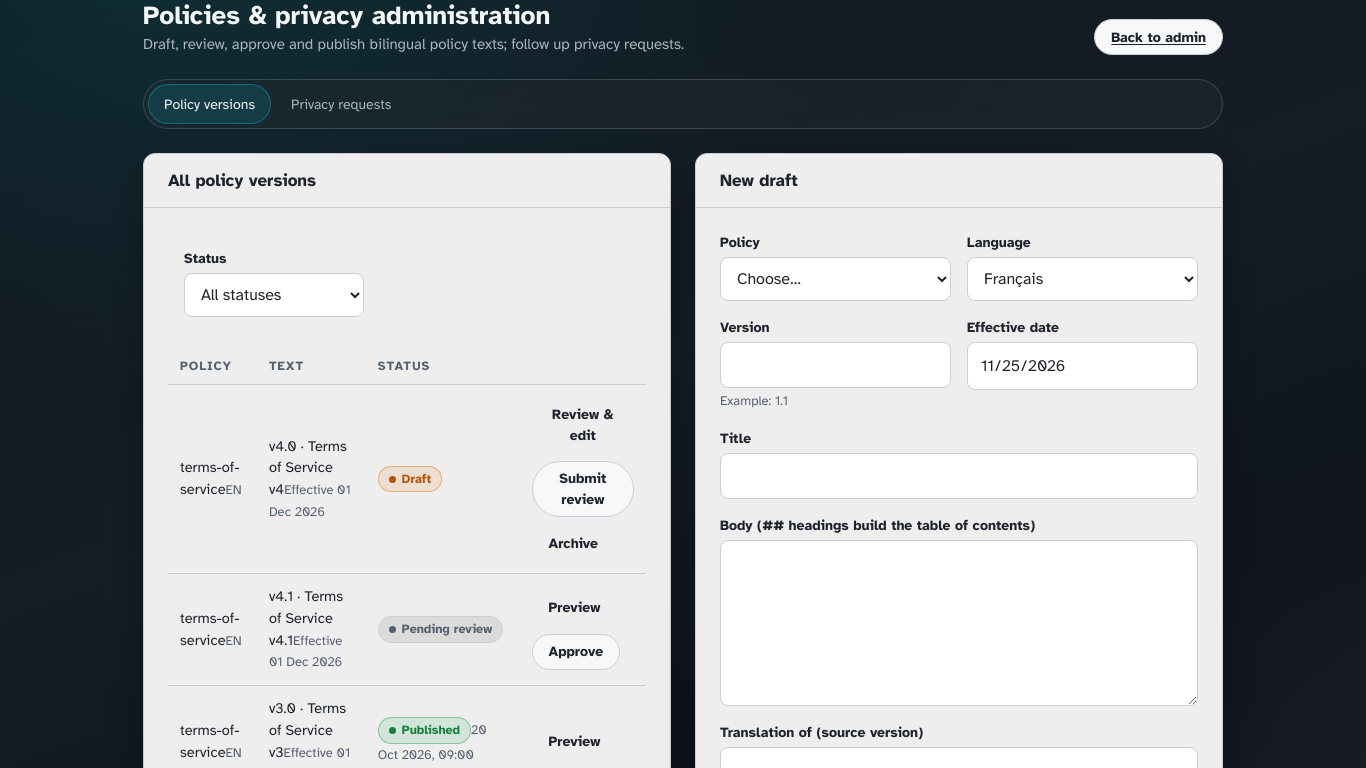
Test: LegalAdminPage › previews a published text without offering edit controls
Click the button "Preview" below "3.0".
click(574, 742)  # box [532,724,617,760]
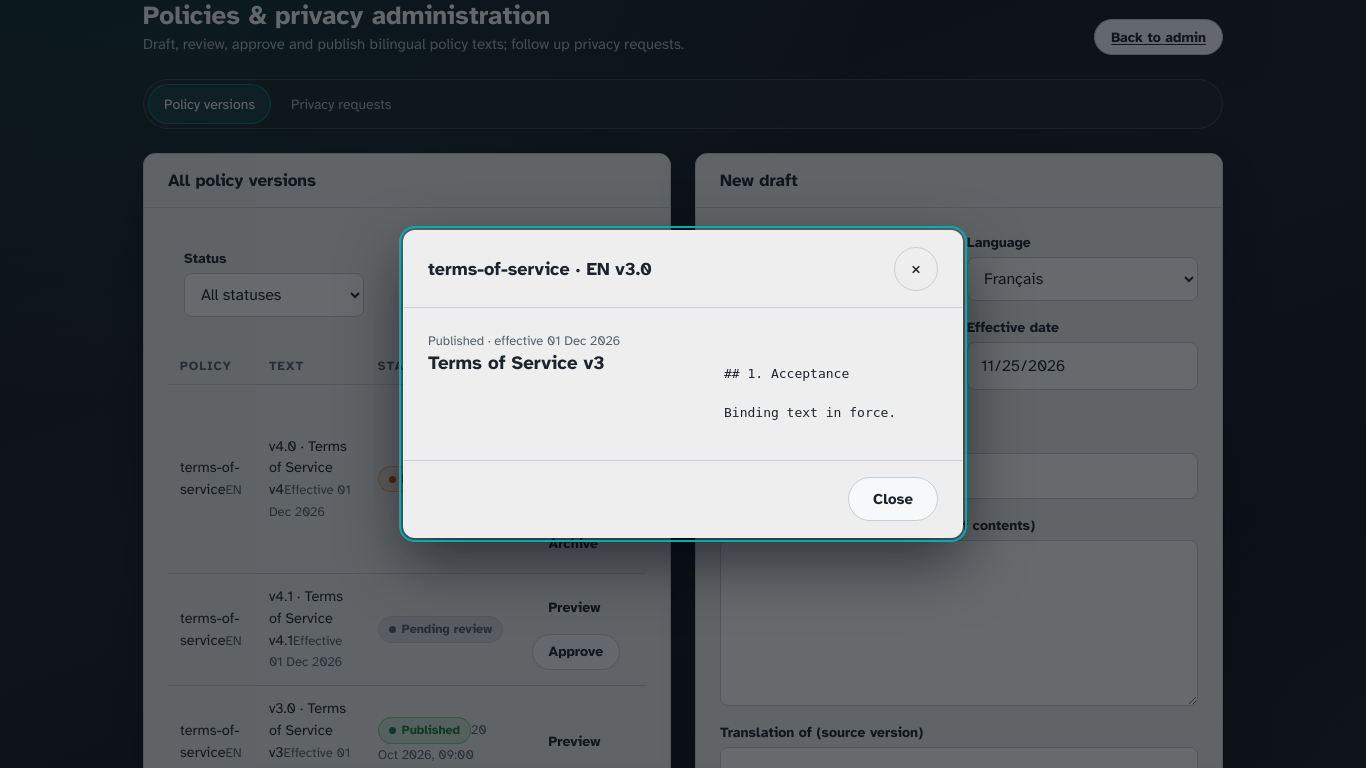
Check: the text "## 1. Acceptance Binding text in force." is shown, box [724,366,896,420]
